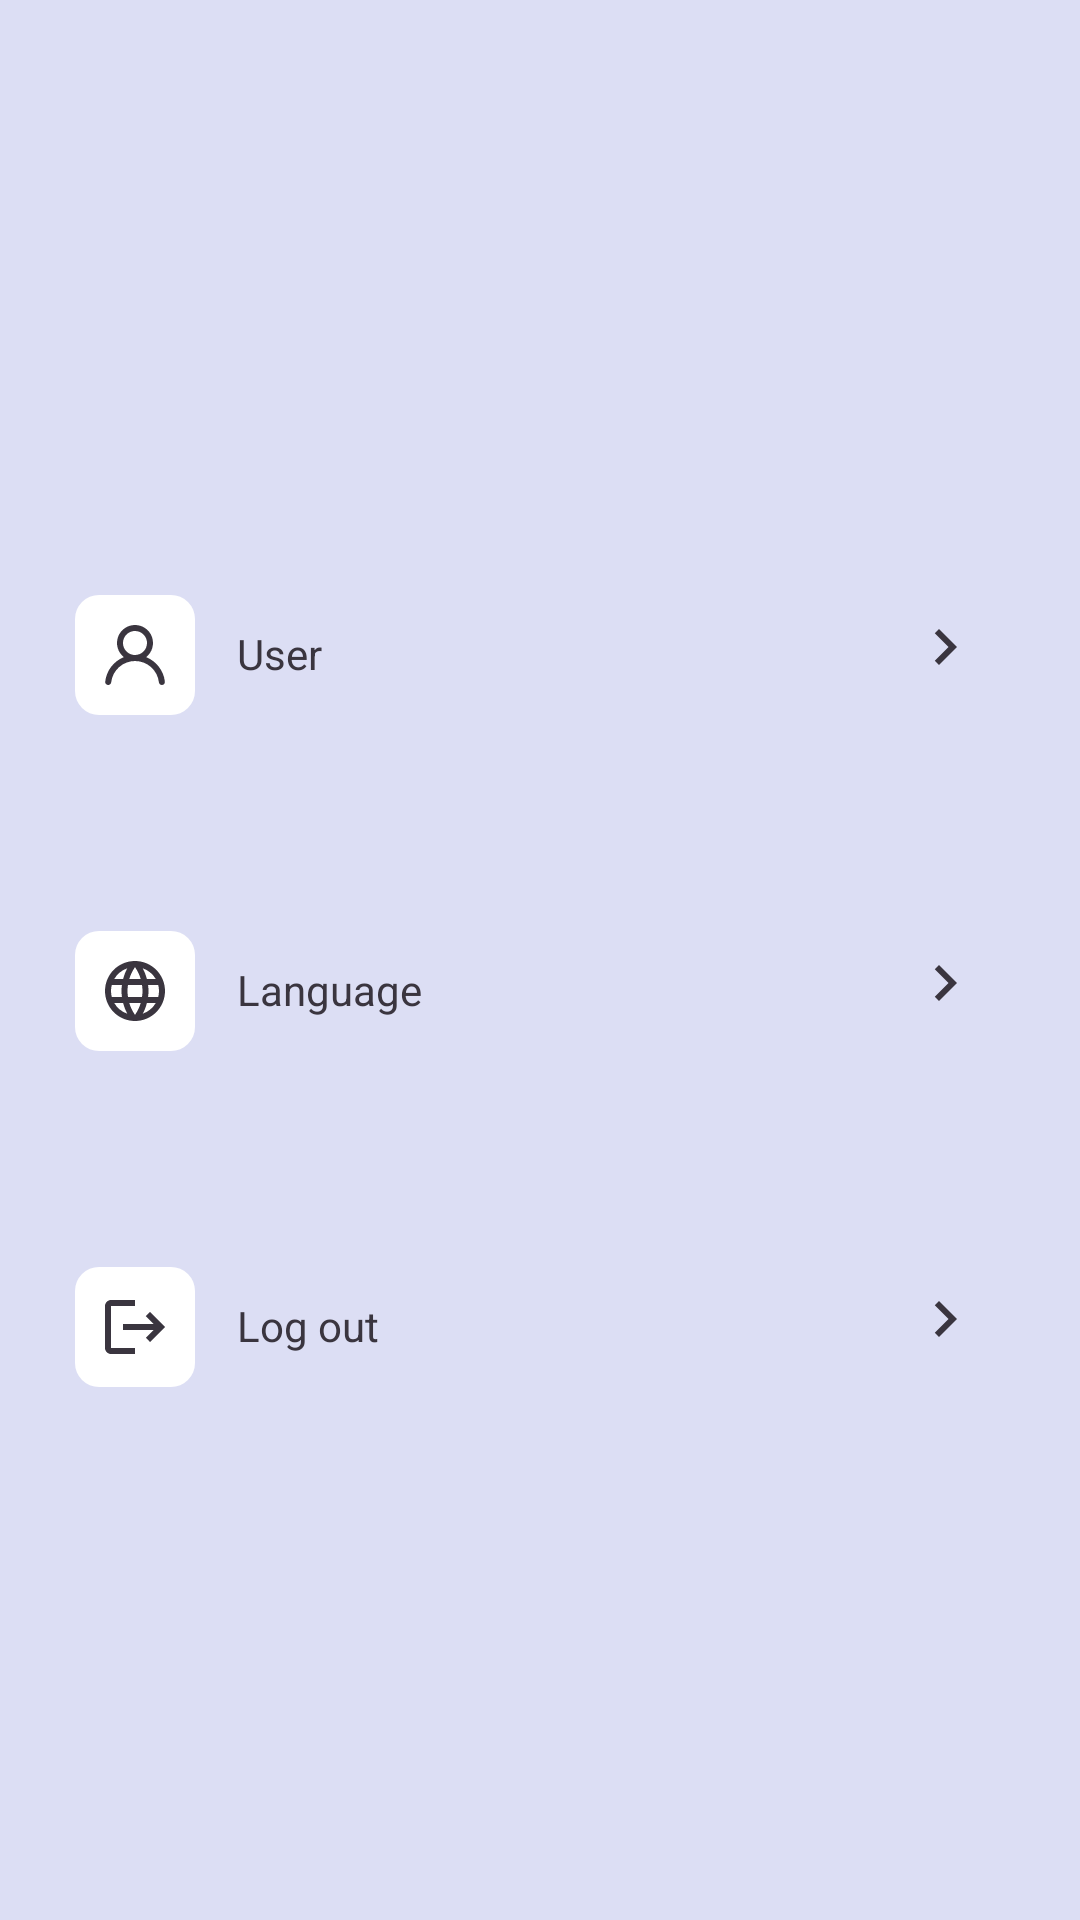

Screen size 1080 x 1920. Icon name, then its center in pixels as (x=x, y=y):
chevron right: (x=946, y=647), (x=946, y=983), (x=946, y=1319)
